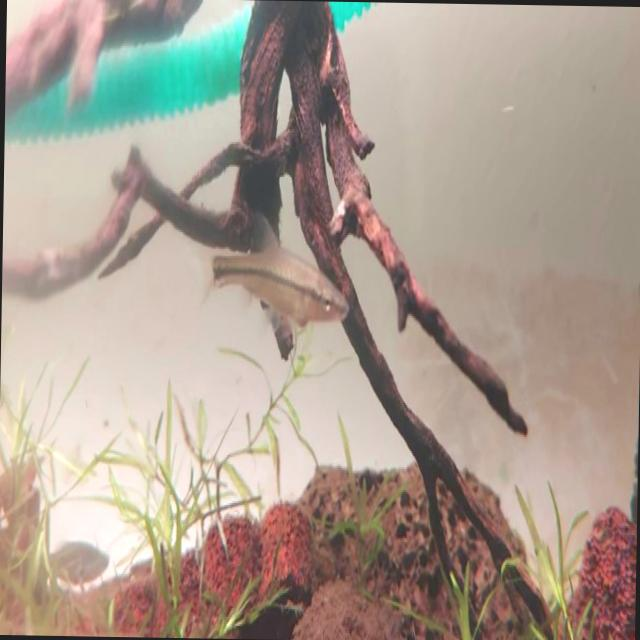Cakil Baligi: (198, 216, 360, 336)
